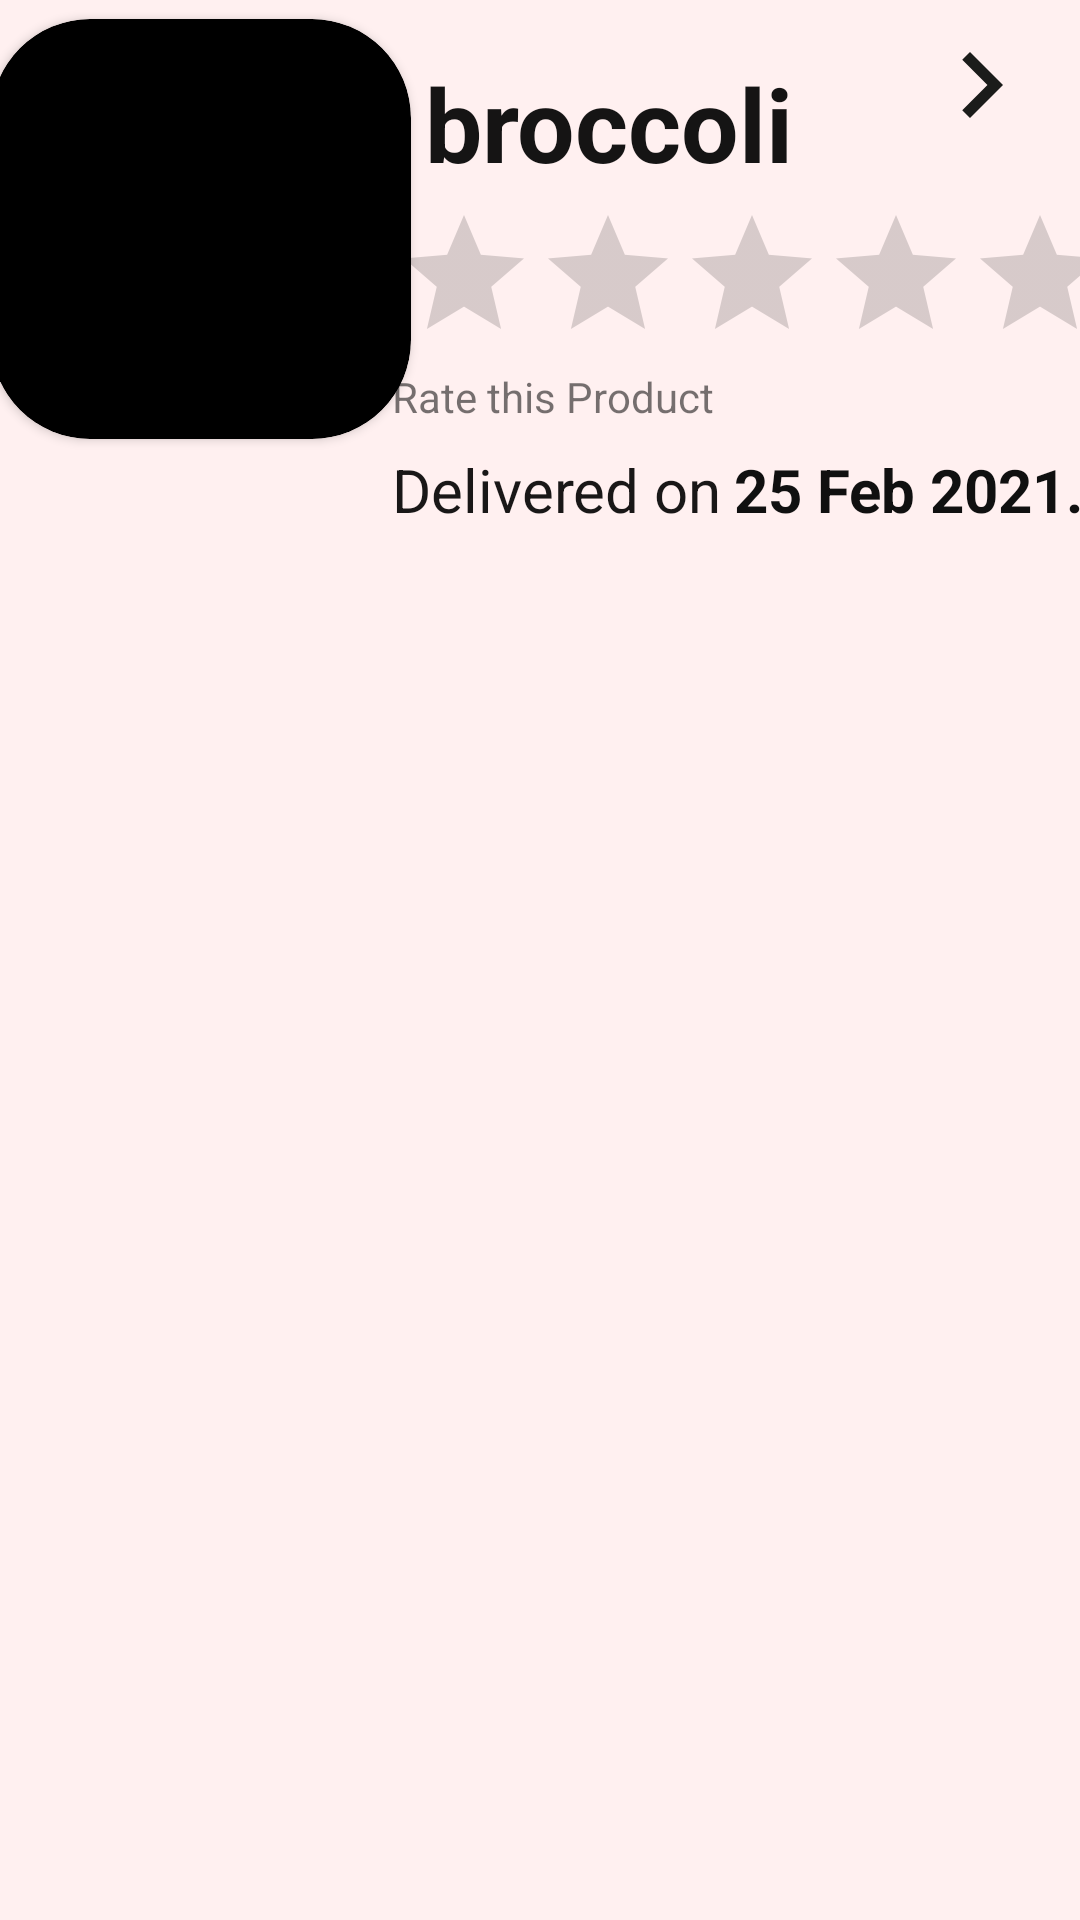

Screen size 1080px×1920px. Icon name, then its center in pixels as [x,y]:
next: [982,85]
